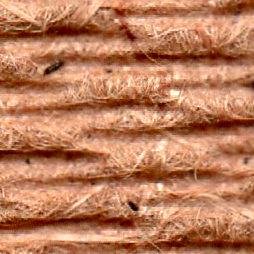egg: (43, 60, 63, 74), (129, 200, 138, 210)
